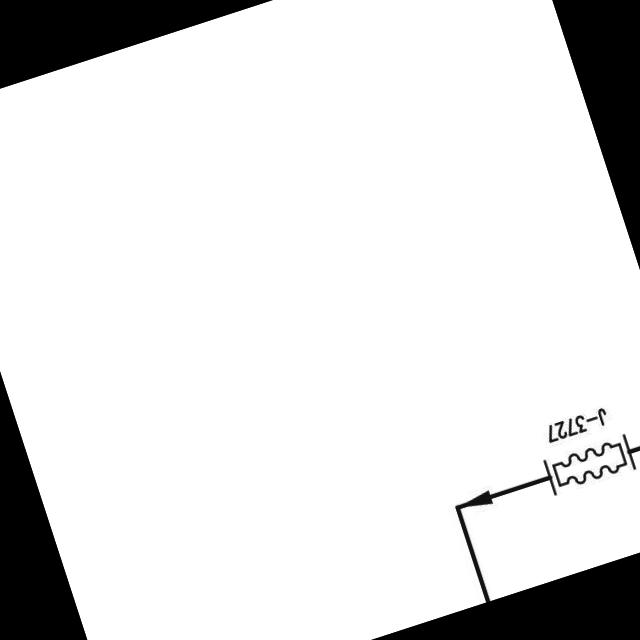EJ: (534, 426, 640, 503)
